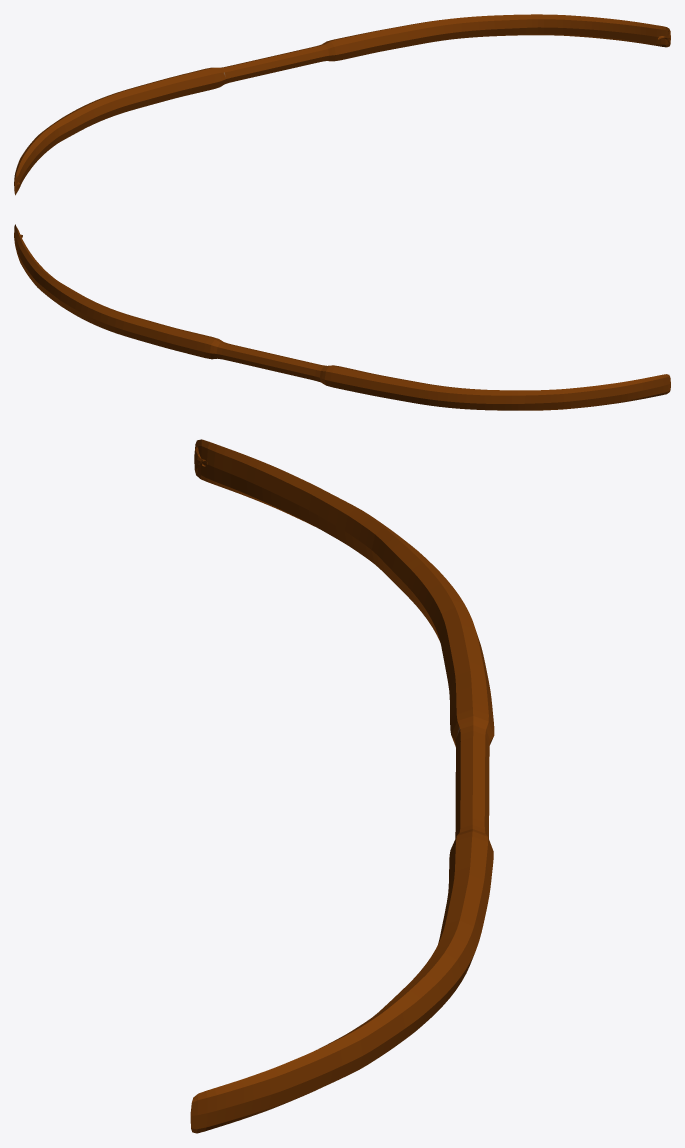
The model's file is bow.fbx.
3 views of the same model, one above another, from view 1: azimuth 30°, elevation 25°; view 2: azimuth 150°, elevation 25°; view 3: azimuth 270°, elevation 25° (orthographic). The views are drawn at different scales.
Visible parts, largest first — view 1: bow; view 2: bow; view 3: bow.
Boxes of the visible parts, x1,y1,x2,y2 form: bow: (14,14,670,195); bow: (14,224,670,410); bow: (190,439,494,1133).
Bounding box in the file's own units: 285 × 1418 × 64.17.
Materials: 1 (1 with a texture image).
